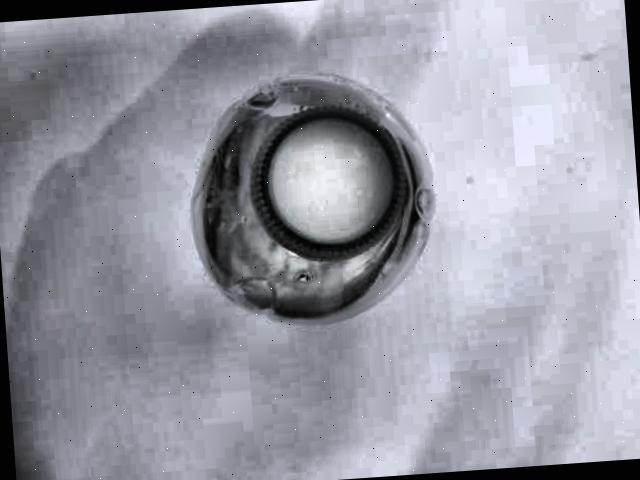Bottles: (185, 60, 432, 328)
